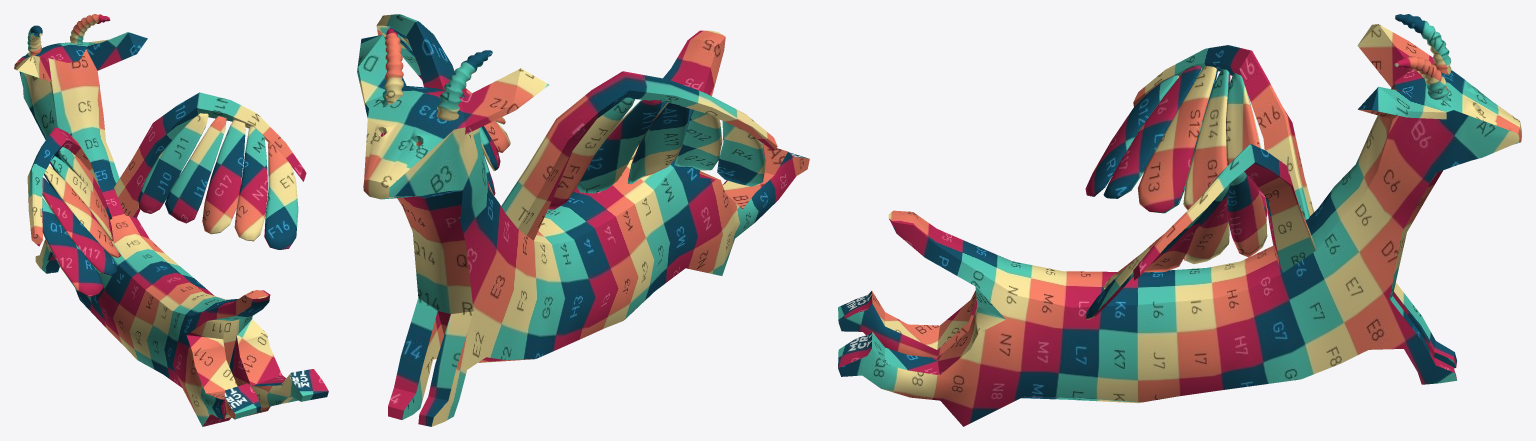
The model's file is Abrerijes_basset_mesh.FBX.
3 views of the same model, side by side, from view 1: azimuth 30°, elevation 25°; view 2: azimuth 150°, elevation 25°; view 3: azimuth 270°, elevation 25° (orthographic). The views are drawn at different scales.
Parts seen in each view (by area): view 1: basset_dragon; view 2: basset_dragon; view 3: basset_dragon.
Part boxes in pixels (x1,y1,x2,y2): basset_dragon: [14, 14, 328, 426]; basset_dragon: [357, 14, 809, 426]; basset_dragon: [838, 14, 1521, 426].
Bounding box in the file's own units: 153 × 147 × 246.
Materials: 1 (1 with a texture image).
